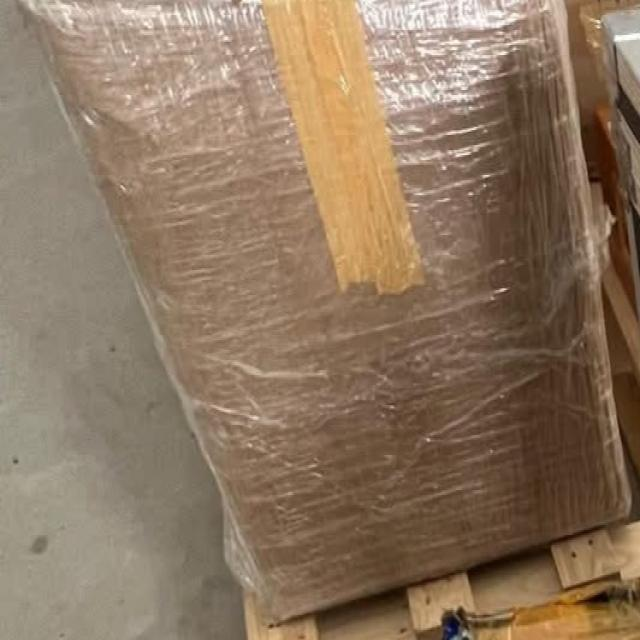carton_box: (18, 0, 640, 583)
